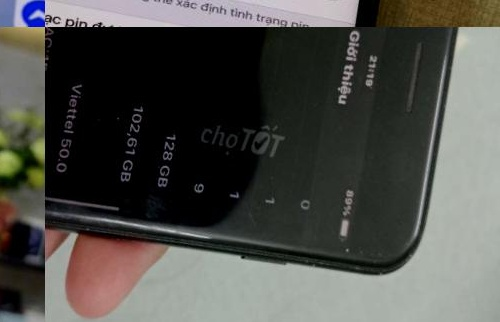scratch: (45, 185, 217, 256), (337, 240, 400, 273)
